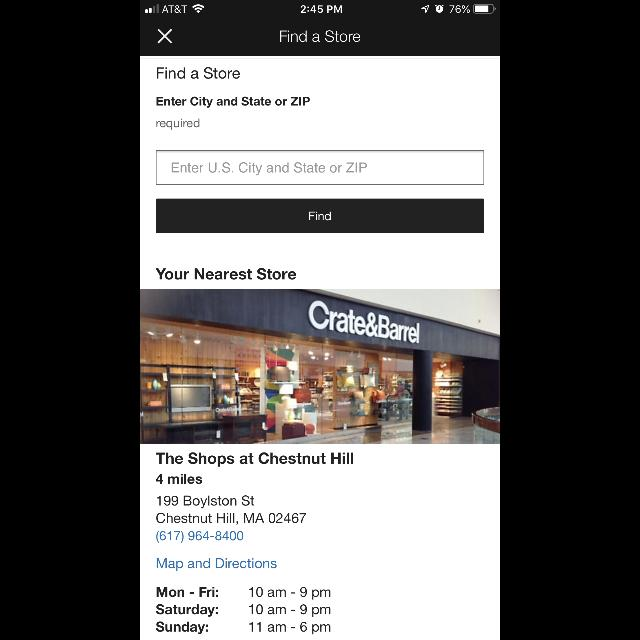icon: (158, 29, 172, 43)
image: (141, 289, 499, 443)
input: (156, 150, 484, 186)
text: (156, 496, 306, 524), (156, 453, 352, 467), (172, 162, 366, 175), (156, 96, 310, 108), (156, 268, 296, 280), (157, 558, 277, 570), (156, 530, 244, 544), (250, 586, 330, 600), (250, 604, 330, 618), (157, 67, 240, 79), (250, 622, 330, 634), (280, 30, 360, 42), (156, 604, 218, 618), (157, 586, 219, 598), (156, 622, 208, 634), (156, 118, 200, 130), (156, 474, 202, 484)
textbutton: (156, 198, 484, 234)
uppertaskbar: (140, 0, 500, 14)
